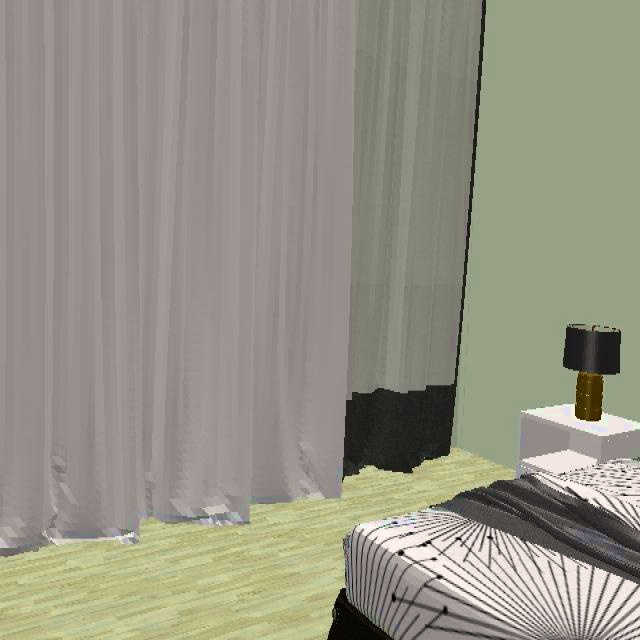bed: (327, 457, 640, 640)
lamp: (563, 324, 621, 423)
nighttable: (519, 404, 640, 465)
